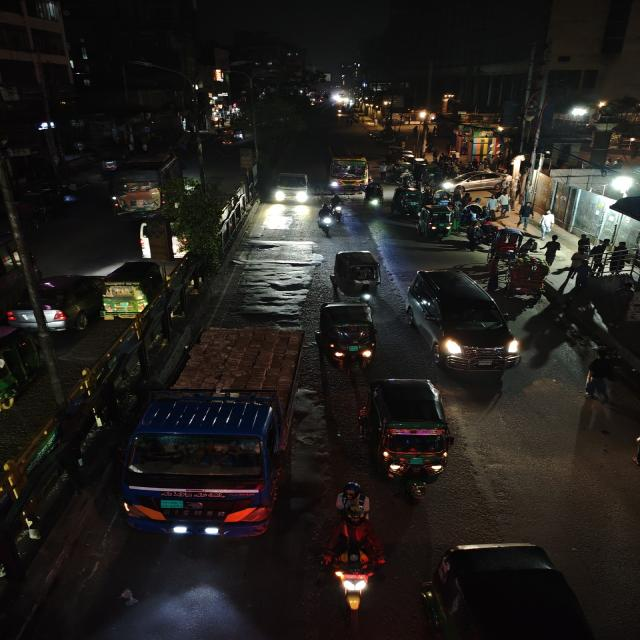bus: (112, 150, 181, 216), (322, 144, 372, 192)
car: (406, 266, 523, 375), (4, 276, 76, 332), (446, 168, 517, 192), (272, 170, 310, 206)
cng: (418, 539, 603, 640), (362, 374, 455, 498), (318, 298, 380, 371), (98, 258, 168, 320), (330, 248, 385, 302), (416, 204, 454, 240), (393, 188, 423, 218), (365, 182, 386, 212)
motorcycle: (318, 515, 387, 619), (314, 203, 334, 235)
pedestrian: (581, 346, 619, 405), (590, 237, 608, 273), (514, 200, 534, 232), (542, 235, 562, 265), (540, 210, 556, 236), (576, 232, 592, 254), (497, 196, 511, 218), (486, 195, 499, 218)
pickup_van: (123, 323, 310, 544)
rickshaw: (504, 260, 555, 300), (487, 229, 523, 262), (363, 182, 385, 212)
